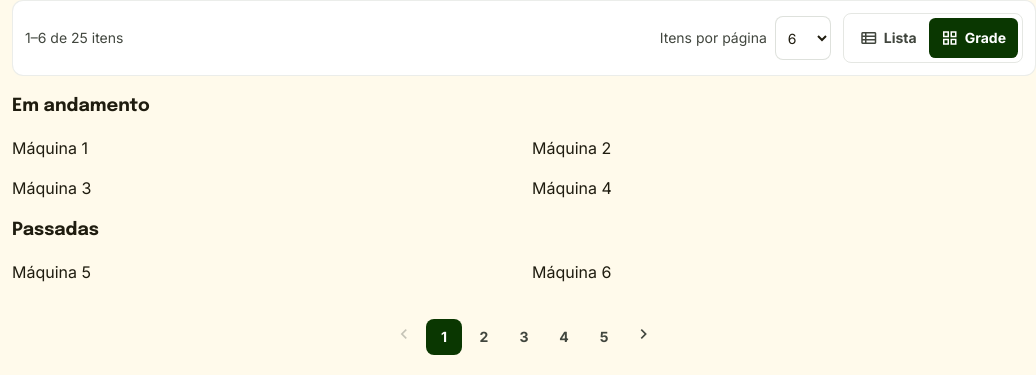
applies a single page-size limit across grouped rentals
Expected: the heading "Em andamento" is shown, [12,97,150,115]
Expected: the heading "Passadas" is shown, [12,221,99,239]
What coordinates should you click on to do the following:
click the button named "Próxima página"
I would click on:
 (644, 337)
Its box is [626,316,662,358].
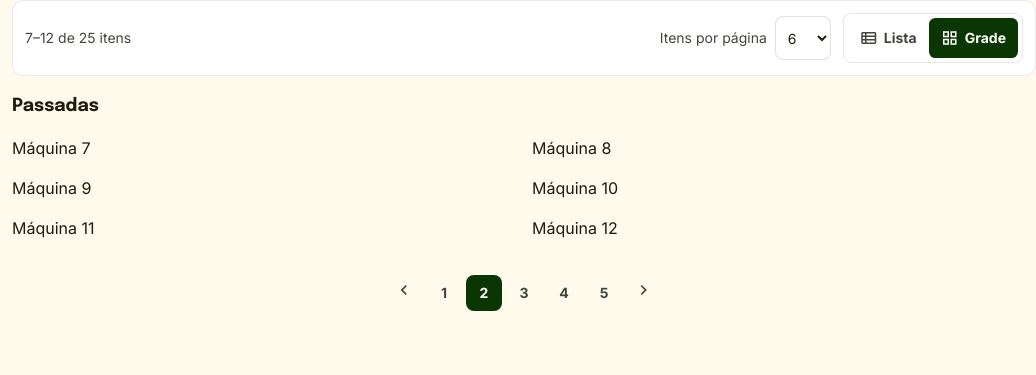
Expected: the heading "Em andamento" is gone
